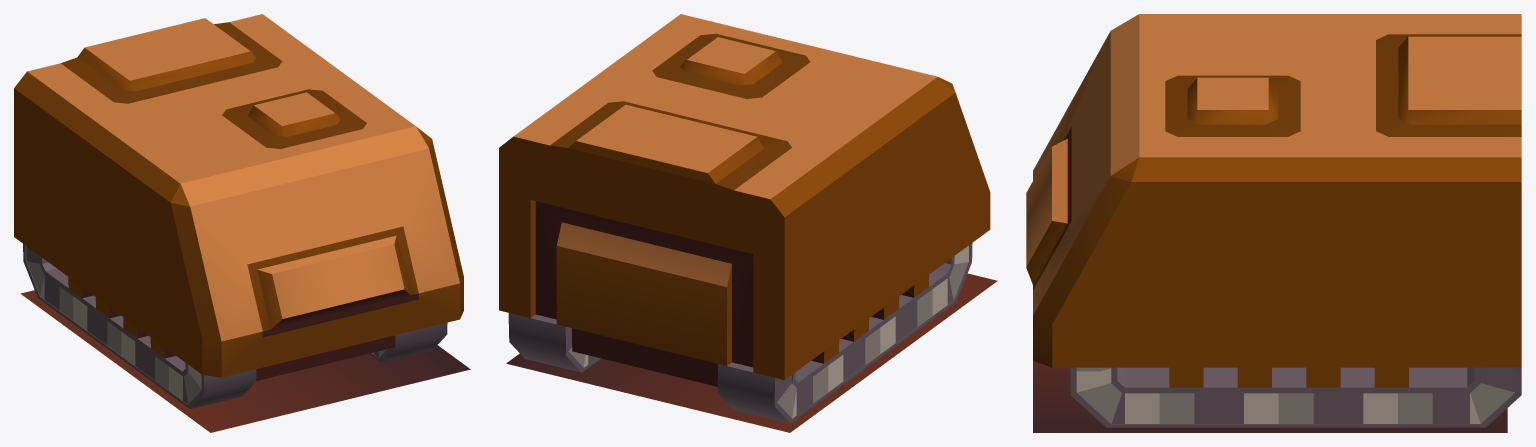
Rendered from APCMesh.UmberWilds.glb.
3 views of the same model, side by side, from view 1: azimuth 30°, elevation 25°; view 2: azimuth 150°, elevation 25°; view 3: azimuth 270°, elevation 25° (orthographic). The views are drawn at different scales.
Parts seen in each view (by area): view 1: APCMesh.UmberWilds; view 2: APCMesh.UmberWilds; view 3: APCMesh.UmberWilds.
Boxes of the visible parts, left/top/right/bottom form: APCMesh.UmberWilds: left=14, top=14, right=470, bottom=432; APCMesh.UmberWilds: left=499, top=14, right=997, bottom=432; APCMesh.UmberWilds: left=1026, top=14, right=1521, bottom=432.
Size of the model in its own units: 1.51 by 1.25 by 1.98.
1 material, 1 textured.
